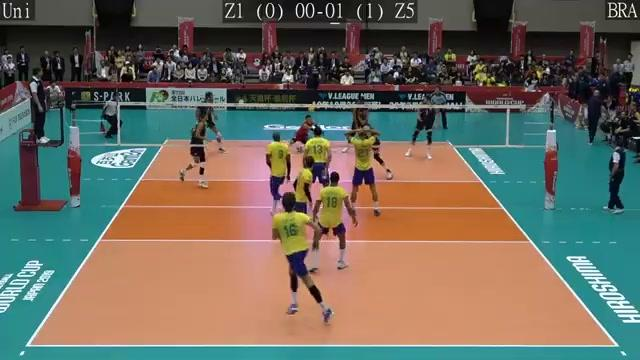ball: (308, 101, 319, 111)
